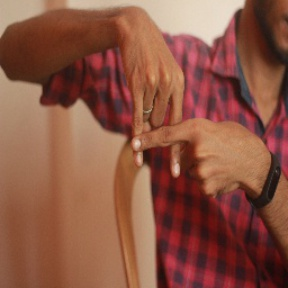H: (111, 73, 219, 193)
